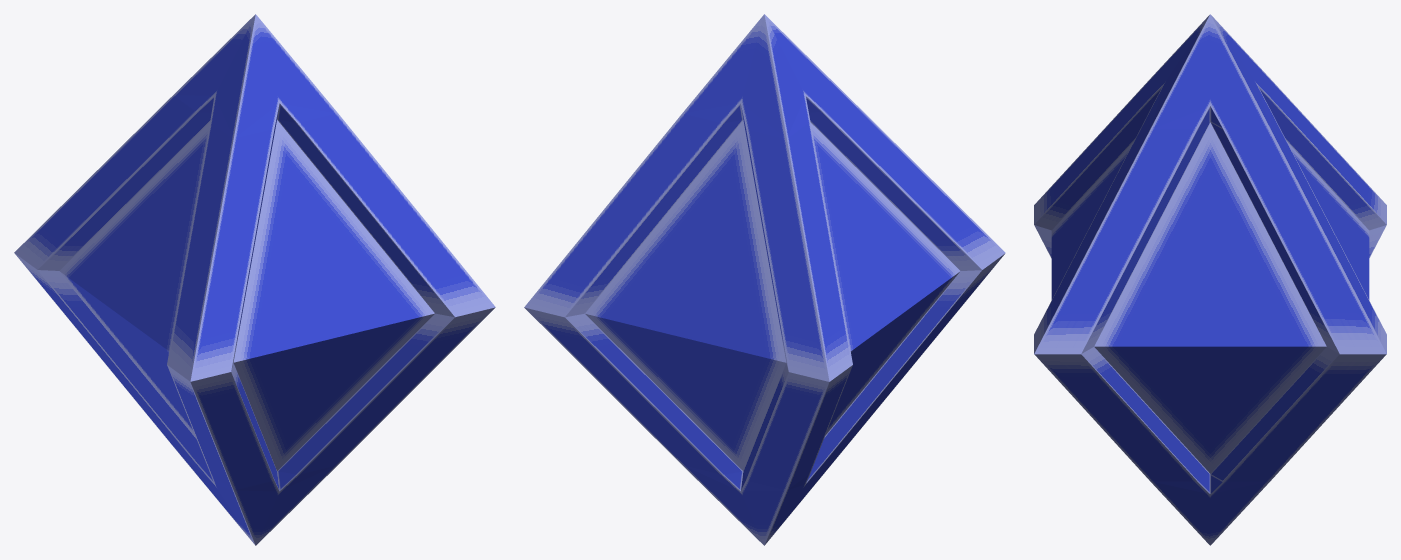
The model's file is healthPack.fbx.
3 renders of one model, left to right at view 1: azimuth 30°, elevation 25°; view 2: azimuth 150°, elevation 25°; view 3: azimuth 270°, elevation 25°, orthographic.
Parts seen in each view (by area): view 1: Cube; view 2: Cube; view 3: Cube.
Boxes of the visible parts, bbox=[...] form: Cube: bbox=[14, 14, 495, 545]; Cube: bbox=[524, 14, 1005, 545]; Cube: bbox=[1034, 14, 1386, 545].
Size of the model in its own units: 2 by 3.33 by 2.
